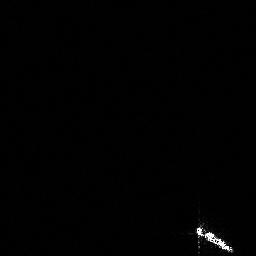ship: (191, 218, 237, 255)
